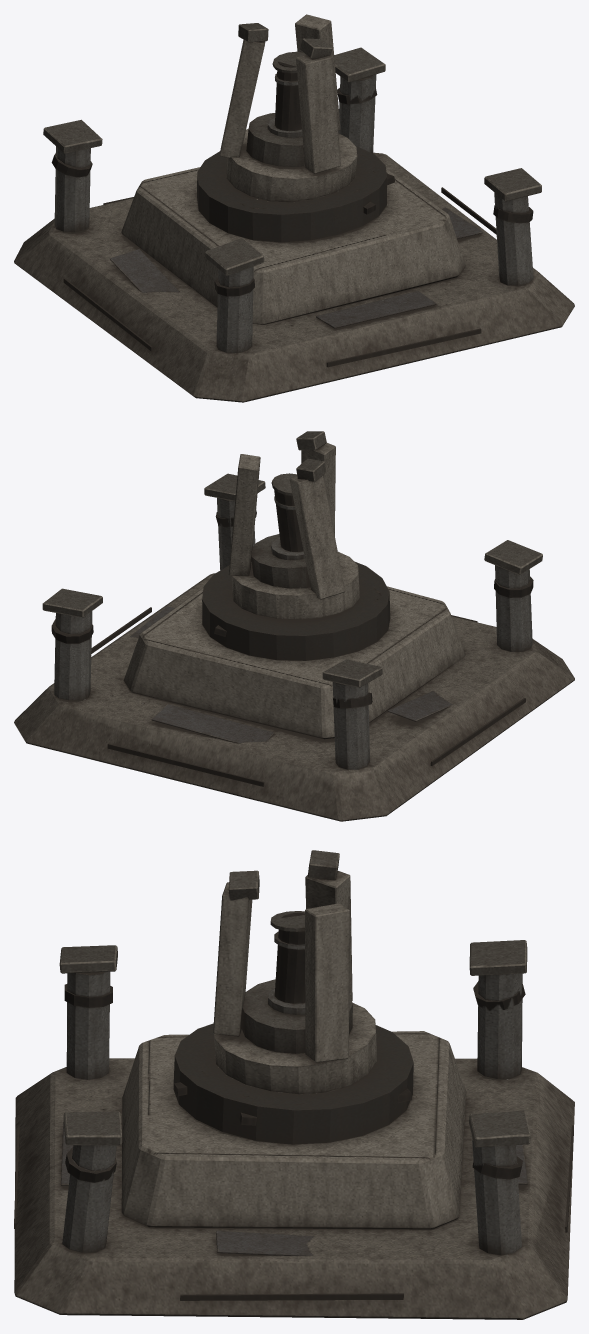
The model's file is ord_phalanx_wreck.fbx.
The picture shows the model from 3 angles, top to bottom: view 1: azimuth 30°, elevation 25°; view 2: azimuth 150°, elevation 25°; view 3: azimuth 270°, elevation 25°; orthographic projection. The views are drawn at different scales.
Parts seen in each view (by area): view 1: base_bar, core_bar; view 2: base_bar, core_bar; view 3: base_bar, core_bar.
Part boxes in pixels (x1=…): base_bar: x1=14, y1=14, x2=574, y2=402; core_bar: x1=267, y1=51, x2=305, y2=137; base_bar: x1=14, y1=431, x2=574, y2=821; core_bar: x1=271, y1=473, x2=304, y2=559; base_bar: x1=14, y1=850, x2=574, y2=1319; core_bar: x1=268, y1=911, x2=305, y2=1014.
Size of the model in its own units: 1492 by 1155 by 1492.
Materials: 2 (2 with a texture image).
